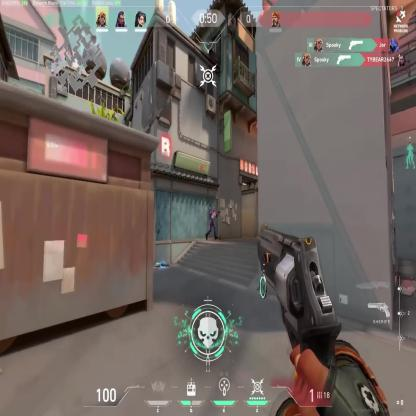enemy: (206, 205, 220, 240)
enemy_head: (212, 206, 215, 212)
